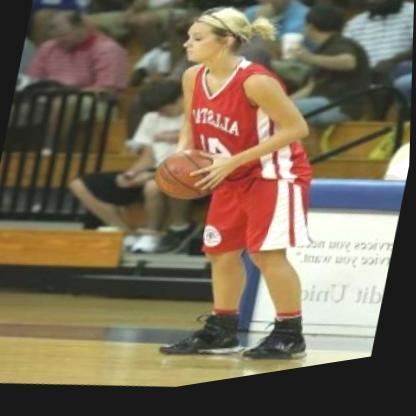basketball: (148, 141, 228, 222)
